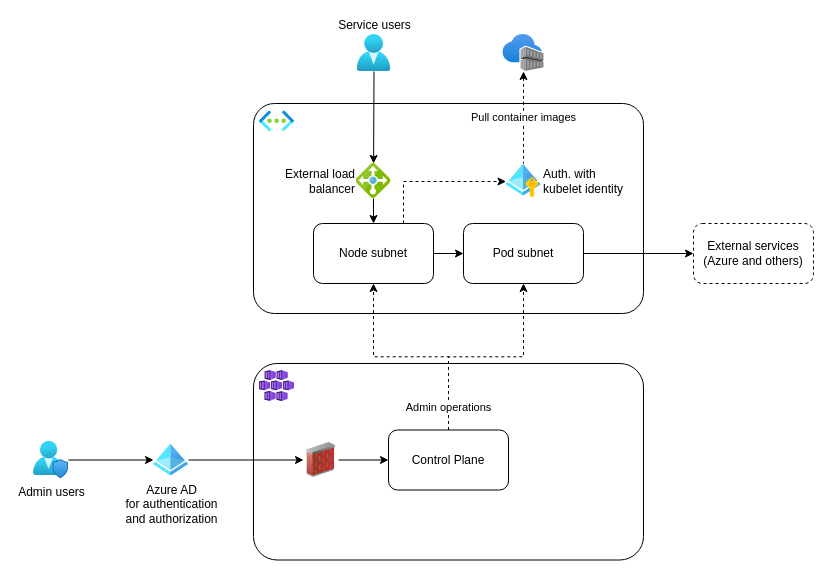
Image size: 831x577. Some labels were removed from this diagram. Here are the shapes that lost their labels. From the top down, the centre of each, then its label:
At point 523,52: "Container registry".
At point 276,120: "VNET".
At point 276,385: "Azure Kubernetes Service".
At point 320,459: "IP restriction for control plane access".
